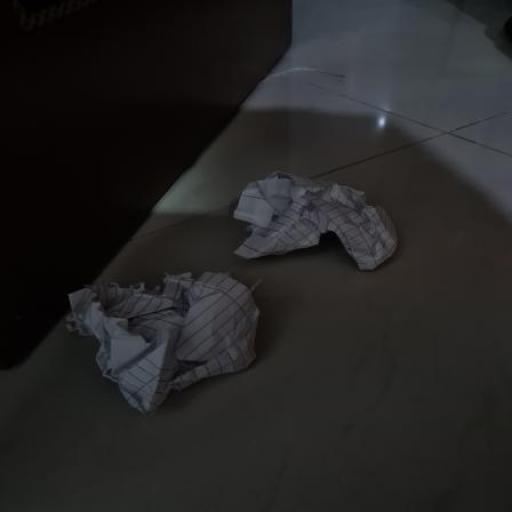paper: (64, 270, 258, 411), (235, 166, 399, 264)
